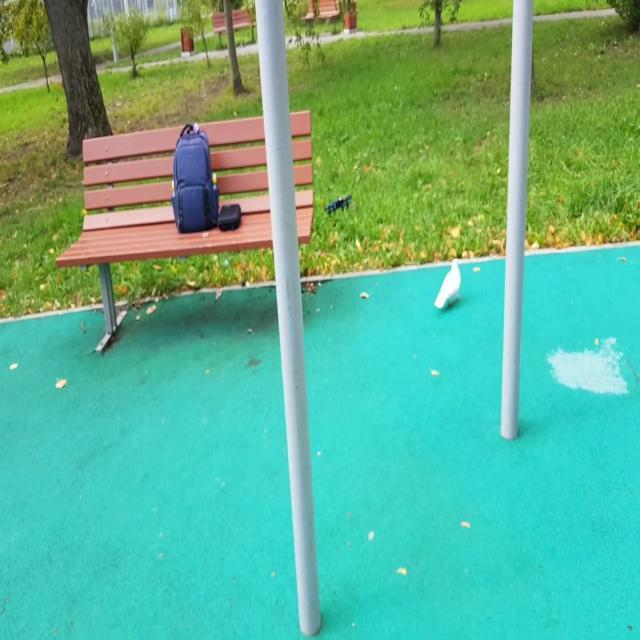Birds: (432, 256, 465, 312)
Drons: (322, 192, 353, 216)
